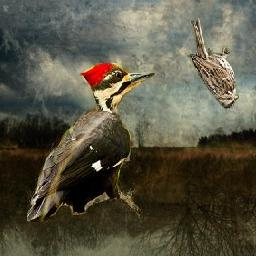Sparrow: (187, 15, 239, 109)
Woodpecker: (28, 64, 157, 223)
